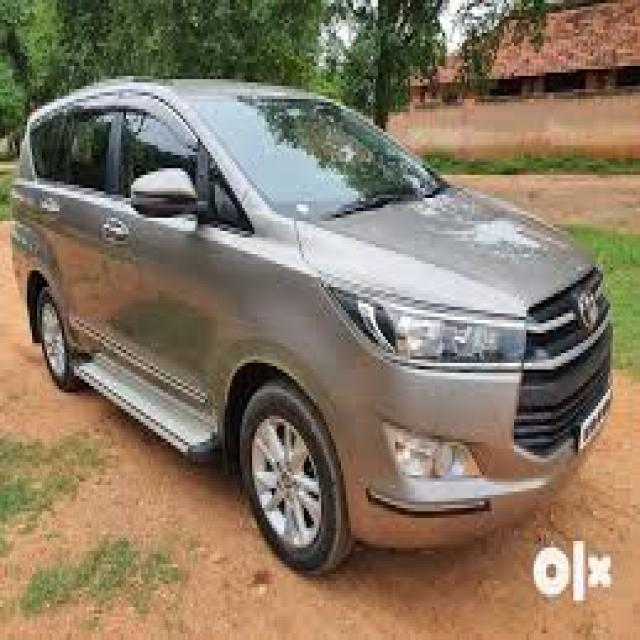light_vehicle: (11, 76, 614, 576)
